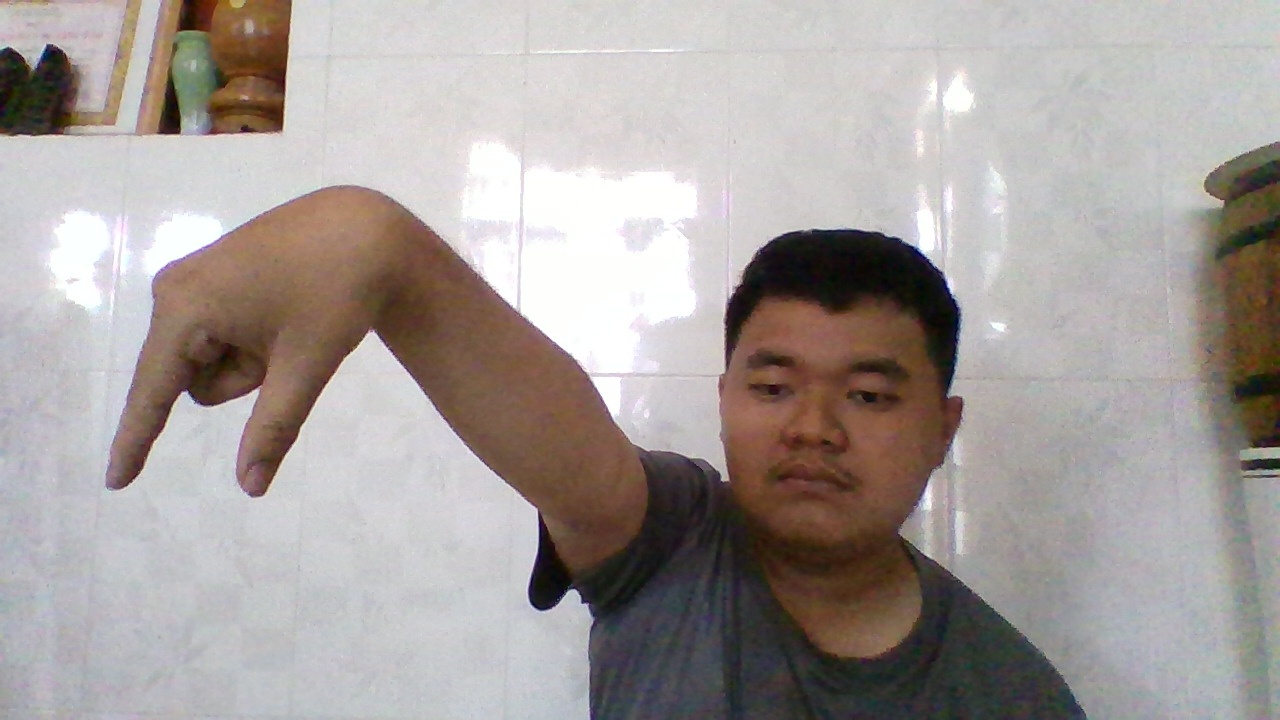Q: (100, 207, 393, 501)
